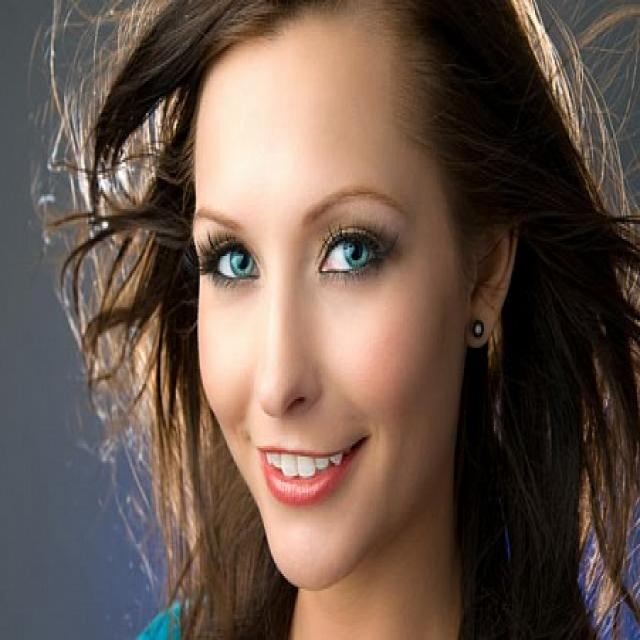Eyes: (192, 197, 416, 293)
